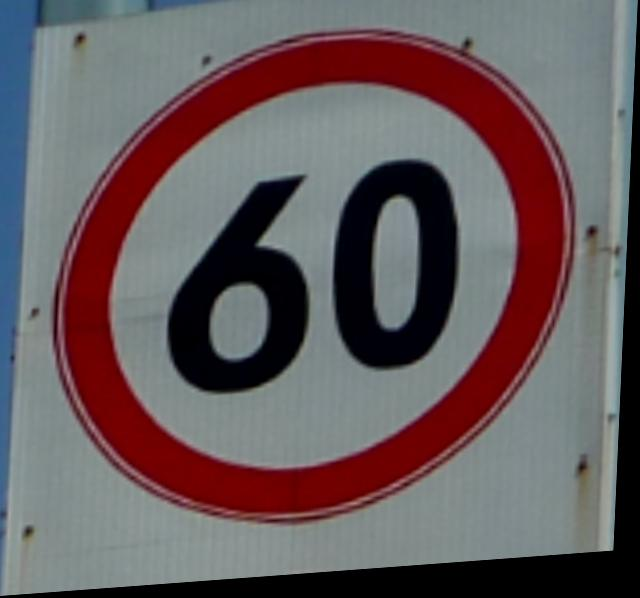limit60: (19, 0, 611, 553)
